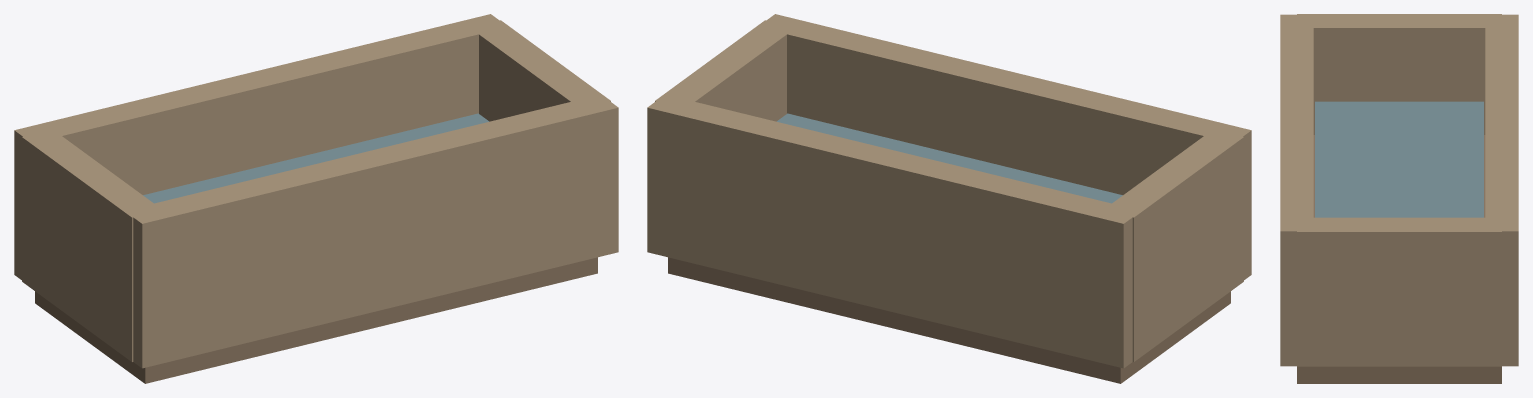
Rendered from trough.glb.
The picture shows the model from 3 angles, left to right: view 1: azimuth 30°, elevation 25°; view 2: azimuth 150°, elevation 25°; view 3: azimuth 270°, elevation 25°; orthographic projection. The views are drawn at different scales.
Visible parts, largest first — view 1: trough; view 2: trough; view 3: trough.
Part boxes in pixels (bbox=[...]): trough: bbox=[14, 14, 618, 383]; trough: bbox=[647, 14, 1251, 383]; trough: bbox=[1280, 14, 1518, 383].
Bounding box in the file's own units: 0.335 × 0.1133 × 0.155.
